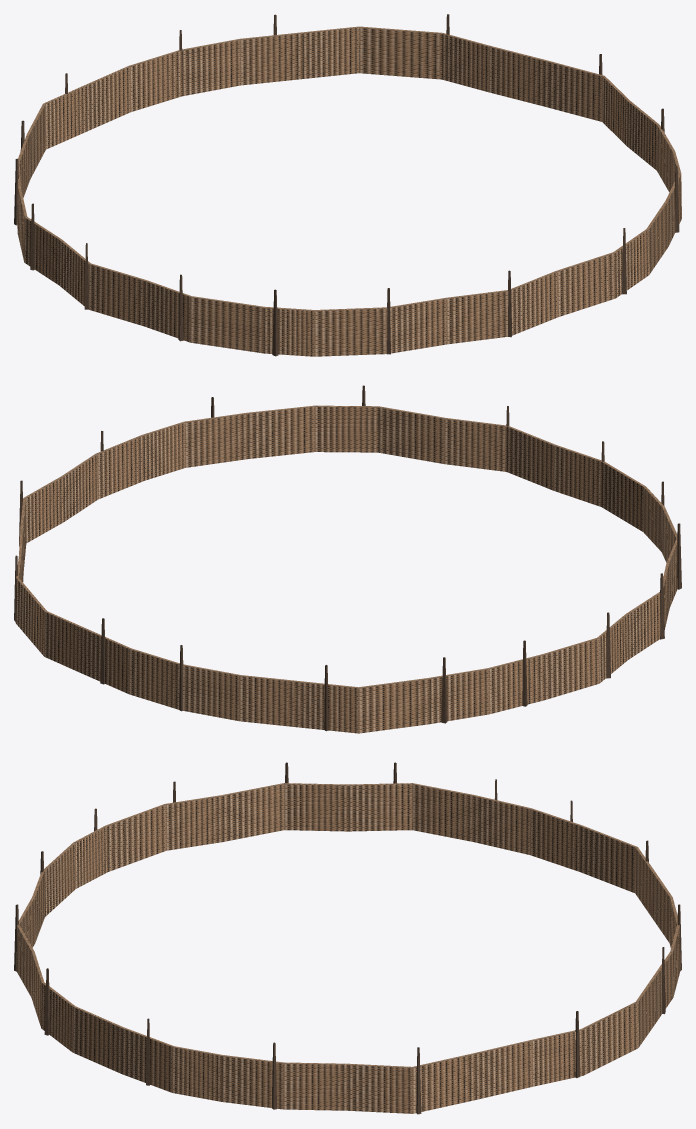
File: step_corral_01.dae
3 views of the same model, one above another, from view 1: azimuth 30°, elevation 25°; view 2: azimuth 150°, elevation 25°; view 3: azimuth 270°, elevation 25° (orthographic).
Parts seen in each view (by area): view 1: Cube.003; view 2: Cube.003; view 3: Cube.003.
Part boxes in pixels (x1,y1,x2,y2): Cube.003: (14,14,681,356); Cube.003: (14,385,681,733); Cube.003: (14,762,681,1114).
Bounding box in the file's own units: 26.98 × 26.52 × 2.87.
